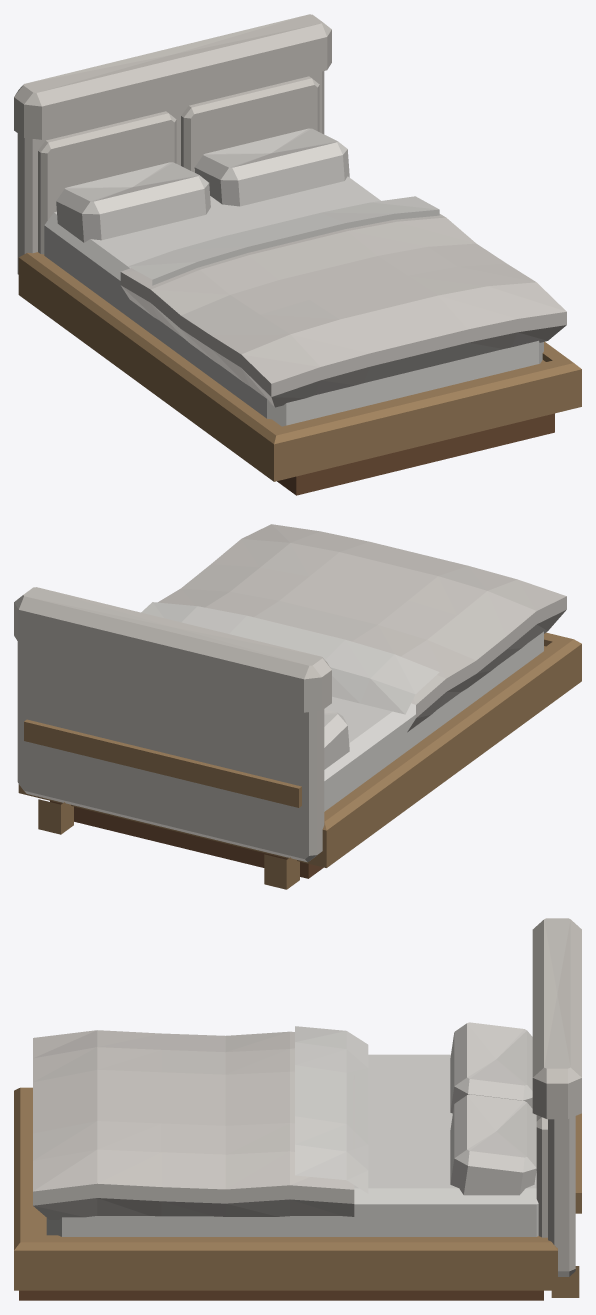
File: home_bed.glb
3 renders of one model, top to bottom at view 1: azimuth 30°, elevation 25°; view 2: azimuth 150°, elevation 25°; view 3: azimuth 270°, elevation 25°, orthographic. The views are drawn at different scales.
Visible parts, largest first — view 1: bed, duvet, pillows; view 2: bed, duvet, pillows; view 3: bed, duvet, pillows.
Boxes of the visible parts, left/top/right/bottom form: bed: left=14, top=14, right=581, bottom=495; duvet: left=120, top=196, right=566, bottom=407; pillows: left=56, top=128, right=349, bottom=242; bed: left=14, top=587, right=581, bottom=889; duvet: left=141, top=524, right=566, bottom=732; pillows: left=324, top=709, right=349, bottom=769; bed: left=14, top=918, right=581, bottom=1300; duvet: left=33, top=1026, right=368, bottom=1219; pillows: left=450, top=1022, right=536, bottom=1195.
Bounding box in the file's own units: 1.5 × 1.05 × 2.25.
